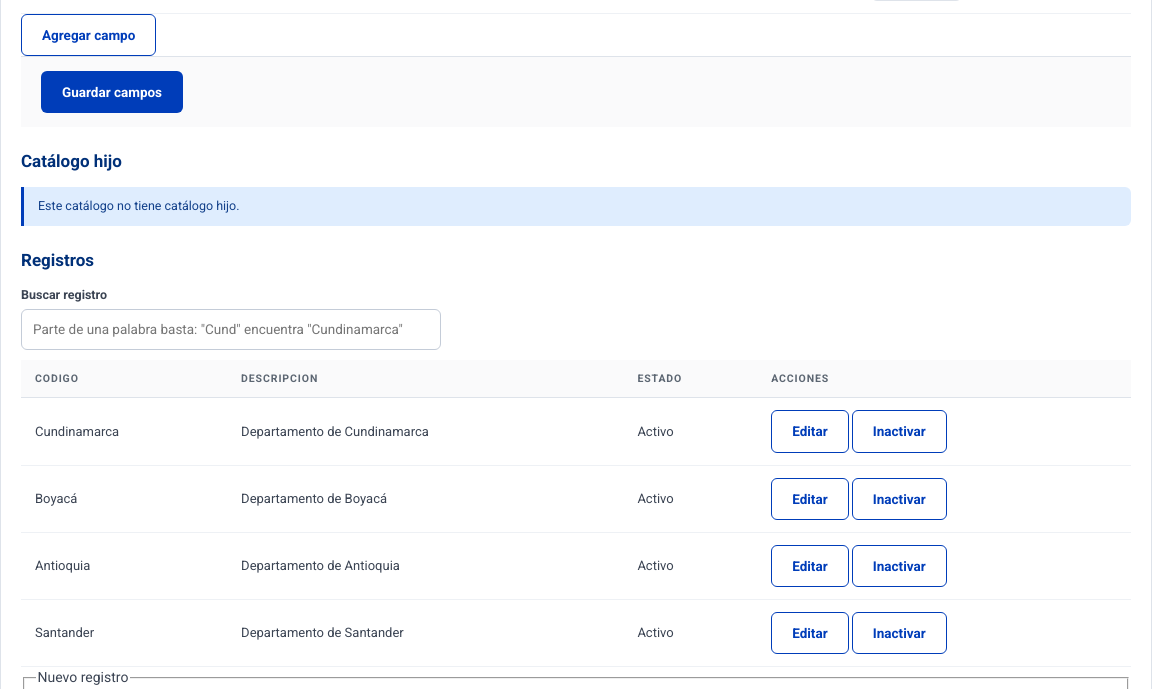
Scenario: búsqueda en catálogos y registros › si no hay coincidencias lo dice, y al borrar vuelven todos
(page scrolled)
Check: the text "Cundinamarca" is shown, box top-left (21, 398), bottom-right (227, 465)
Step 1. Type "zzz" into the search field labelled "Buscar registro" → (231, 329), box top-left (21, 309), bottom-right (441, 350)
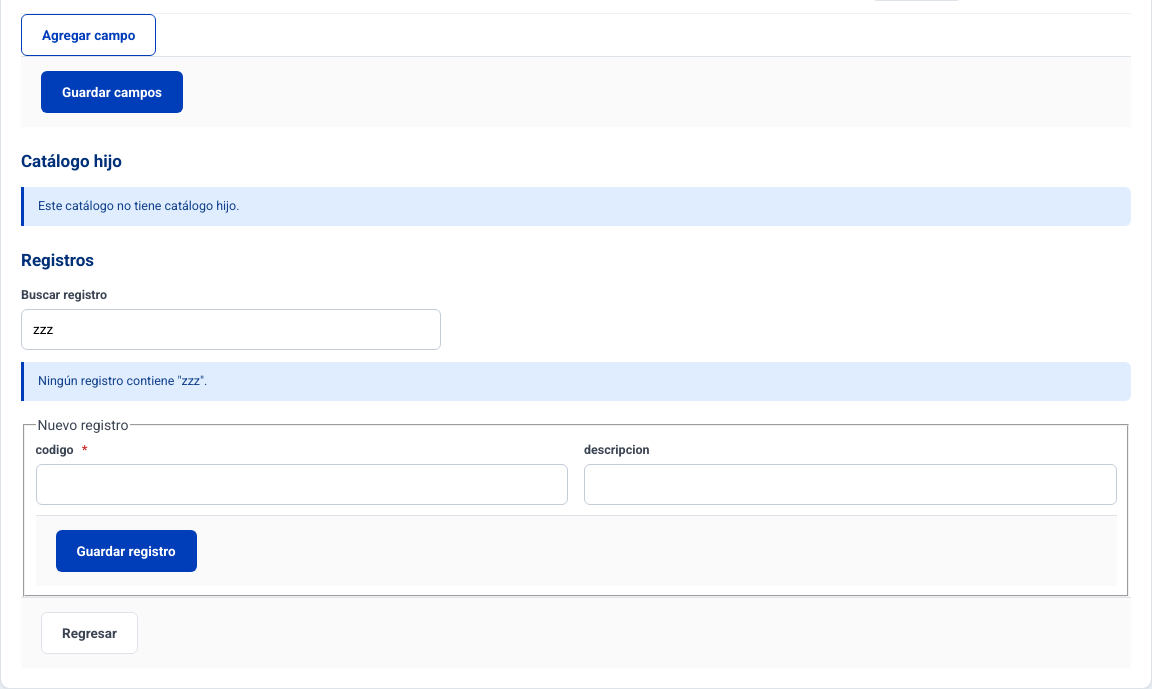
Check: the text "Ningún registro contiene \"zzz\"." is shown, box top-left (21, 362), bottom-right (1131, 401)
Step 2. Clear the search field labelled "Buscar registro" → (231, 329), box top-left (21, 309), bottom-right (441, 350)
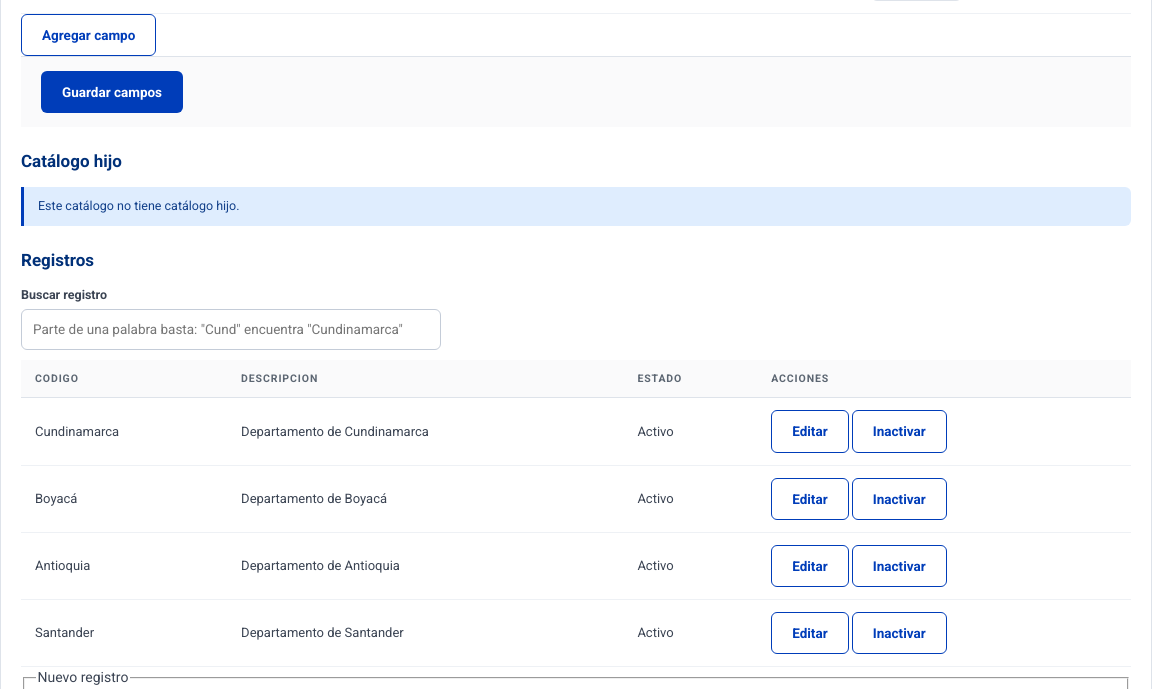
Check: the text "Cundinamarca" is shown, box top-left (21, 398), bottom-right (227, 465)
